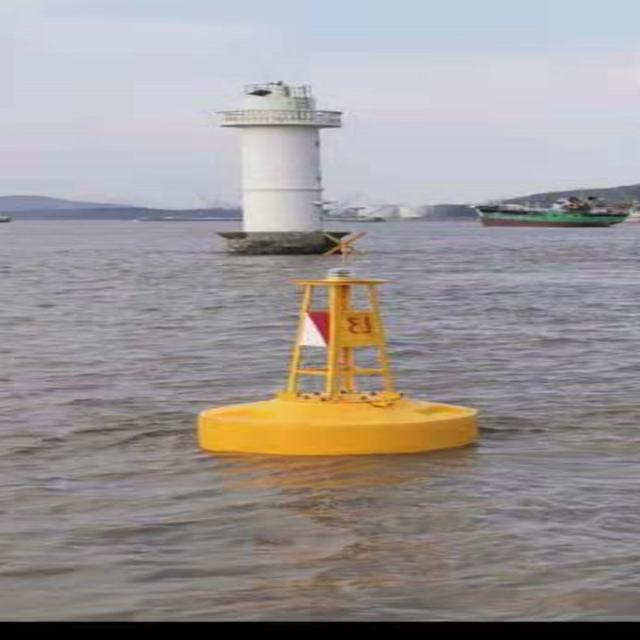buoy: (212, 230, 475, 461)
